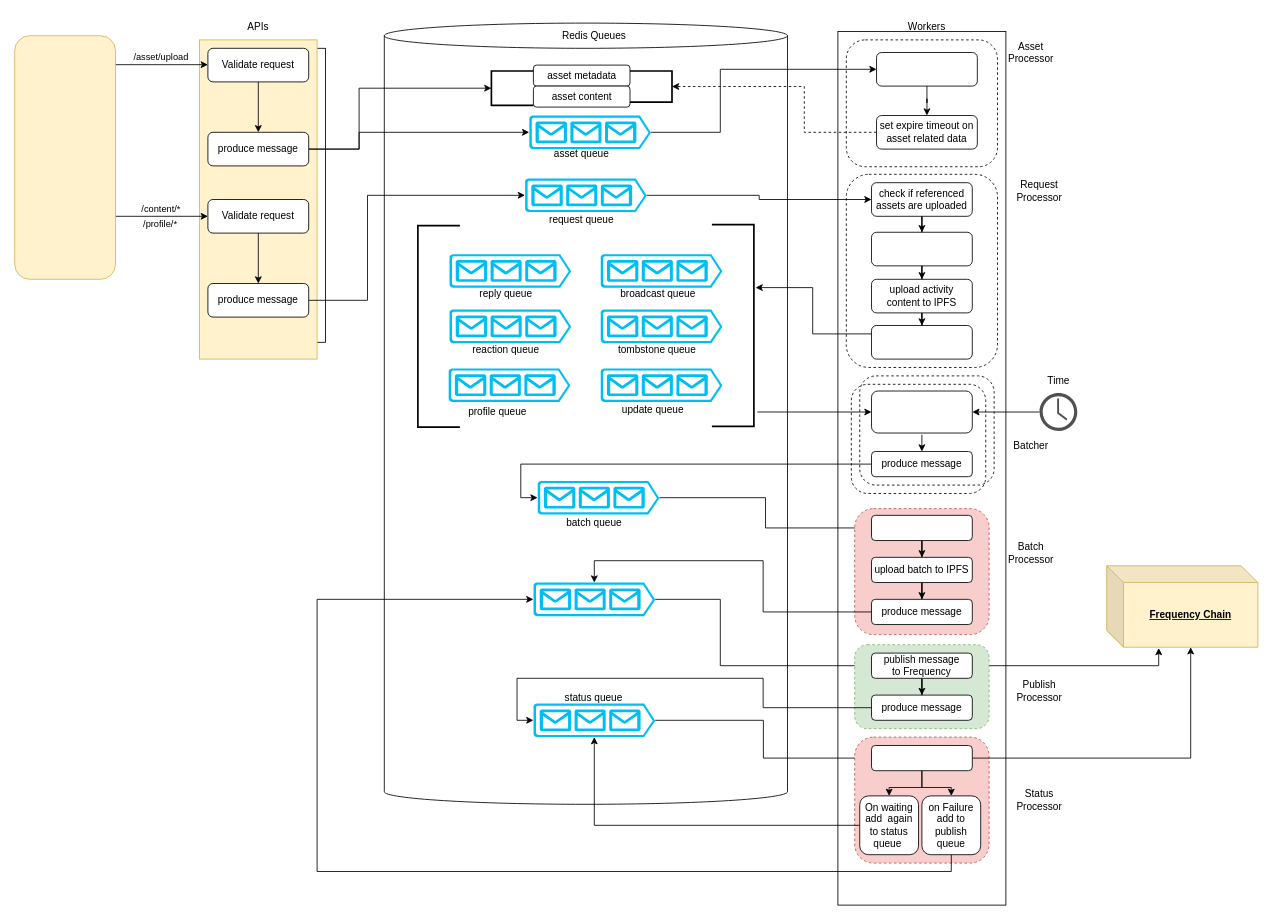
Some shapes in this 1273 by 920 pixel diagram are drawn without their labels. Each missing label, with the centre of its shape:
check published status: (x=921, y=758)
create activity content: (x=921, y=248)
create announcement: (x=921, y=342)
create batch announcement: (x=921, y=527)
create batch for announcement type X: (x=921, y=411)
Provider Backend: (x=65, y=157)
publish queue: (x=594, y=599)
Upload asset blobs to IPFS: (x=926, y=69)
